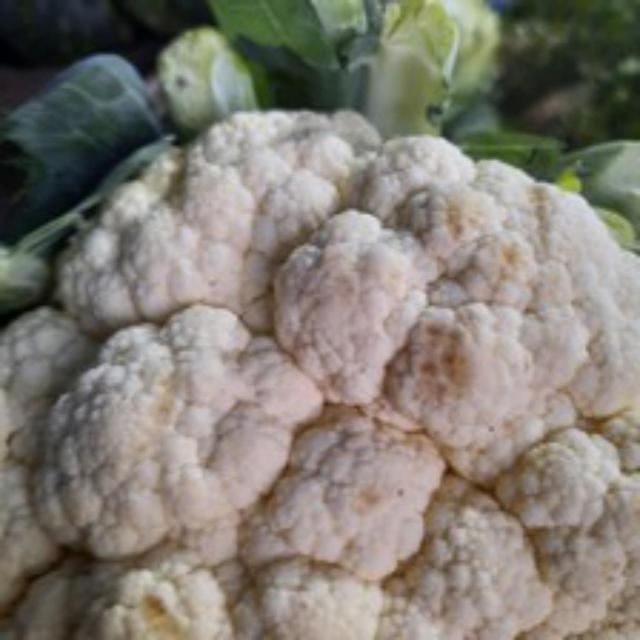cauliflower: (0, 103, 637, 637)
